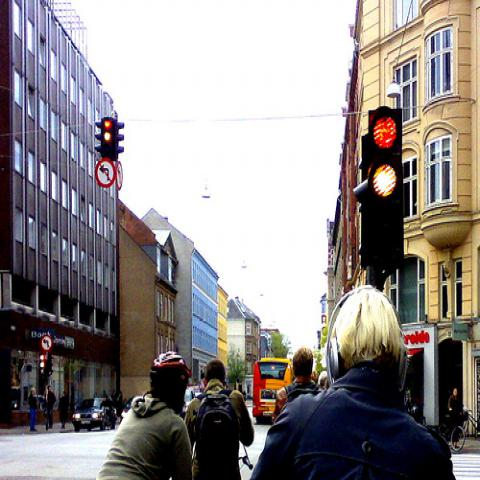bus: (252, 359, 294, 417)
car: (70, 395, 116, 432), (182, 388, 196, 414), (188, 386, 203, 396)
